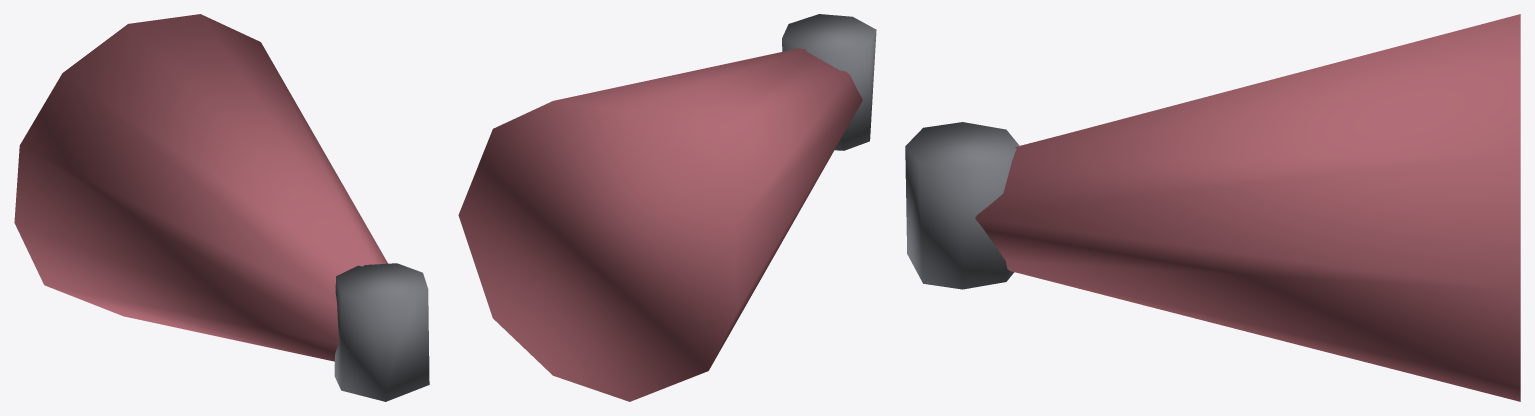
Rendered from Prop_Megaphone_attach_hand_r_LOD1.glb.
3 views of the same model, side by side, from view 1: azimuth 30°, elevation 25°; view 2: azimuth 150°, elevation 25°; view 3: azimuth 270°, elevation 25° (orthographic). The views are drawn at different scales.
Visible parts, largest first — view 1: Prop_Megaphone_attach_hand_r_LOD1; view 2: Prop_Megaphone_attach_hand_r_LOD1; view 3: Prop_Megaphone_attach_hand_r_LOD1.
Part boxes in pixels (bbox=[...]): Prop_Megaphone_attach_hand_r_LOD1: bbox=[14, 14, 429, 401]; Prop_Megaphone_attach_hand_r_LOD1: bbox=[458, 14, 876, 401]; Prop_Megaphone_attach_hand_r_LOD1: bbox=[905, 14, 1520, 401].
Size of the model in its own units: 0.2404 by 0.2381 by 0.375.
